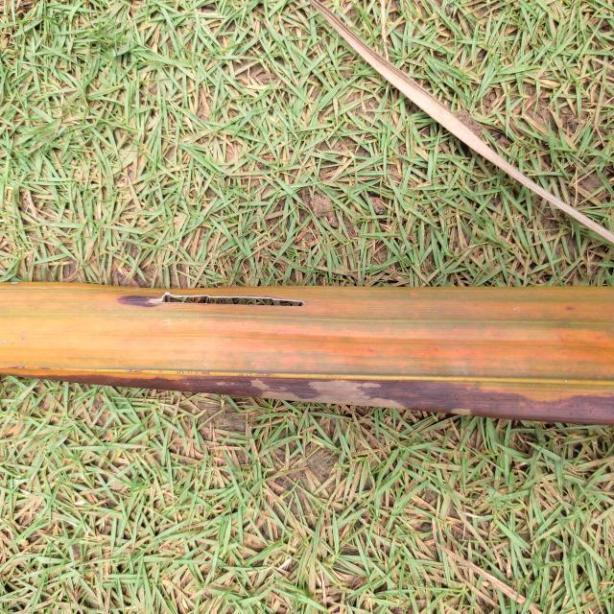Megnesium: (3, 279, 614, 426)
